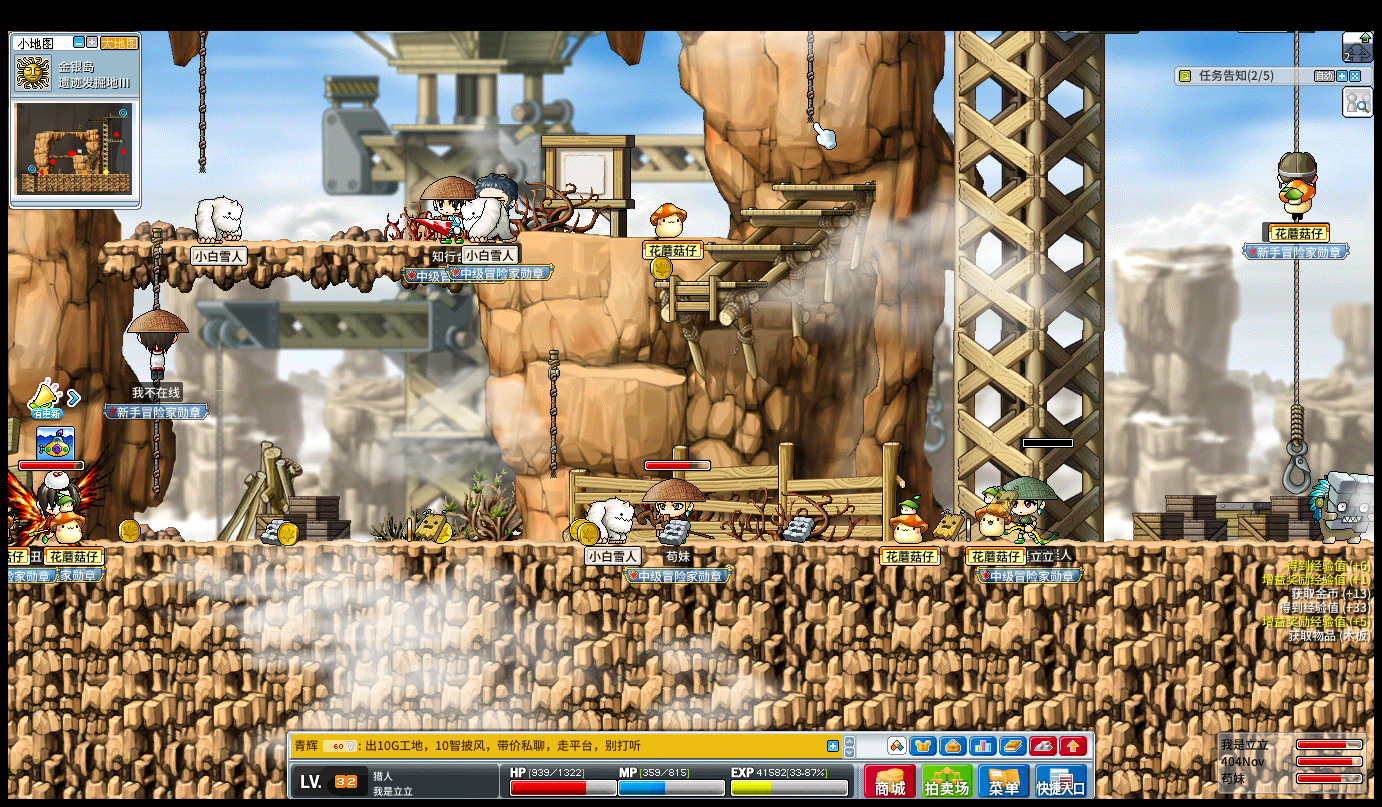floor: (105, 239, 466, 249), (578, 364, 688, 385), (738, 205, 852, 215), (599, 233, 737, 240), (649, 279, 764, 287), (736, 207, 849, 215), (701, 243, 811, 251), (771, 184, 875, 191)
monster: (1309, 469, 1373, 544)
rope: (544, 349, 559, 481), (1291, 257, 1302, 407), (198, 30, 207, 172), (153, 419, 164, 505), (805, 29, 814, 123), (1292, 29, 1299, 148), (151, 227, 161, 308), (152, 419, 160, 502), (1289, 400, 1304, 444)
